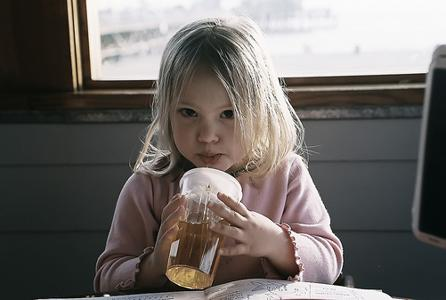person: (96, 15, 345, 296)
